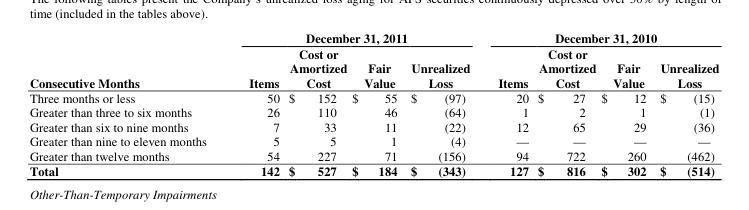table: (28, 29, 718, 179)
table column: (28, 29, 227, 179), (403, 29, 483, 179), (532, 29, 598, 179), (652, 29, 718, 179), (283, 29, 348, 179), (227, 29, 283, 179), (348, 29, 403, 179), (598, 29, 652, 179), (483, 29, 532, 179)
table column header: (28, 29, 718, 89)
table row: (28, 45, 718, 89), (28, 162, 718, 179), (28, 29, 718, 45), (28, 103, 718, 118), (28, 132, 718, 147), (28, 147, 718, 162), (28, 89, 718, 103), (28, 118, 718, 132)
table spanning cell: (28, 29, 227, 89), (227, 29, 483, 45), (483, 29, 718, 45)
